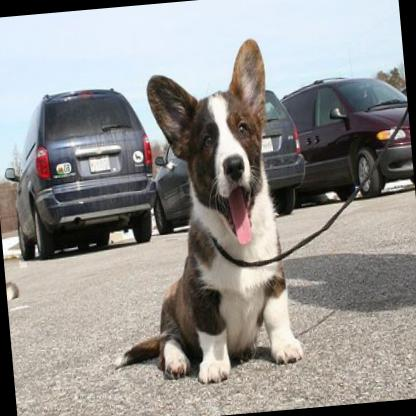Cardigan: (85, 33, 305, 394)
